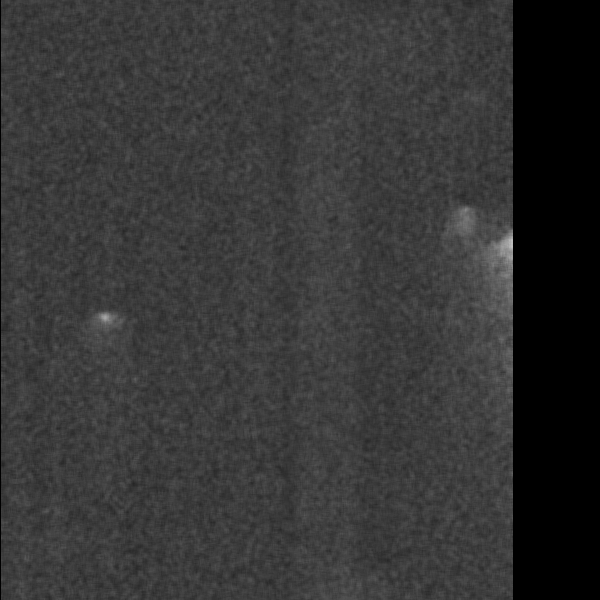spark: (327, 171, 395, 269), (83, 49, 122, 106)
